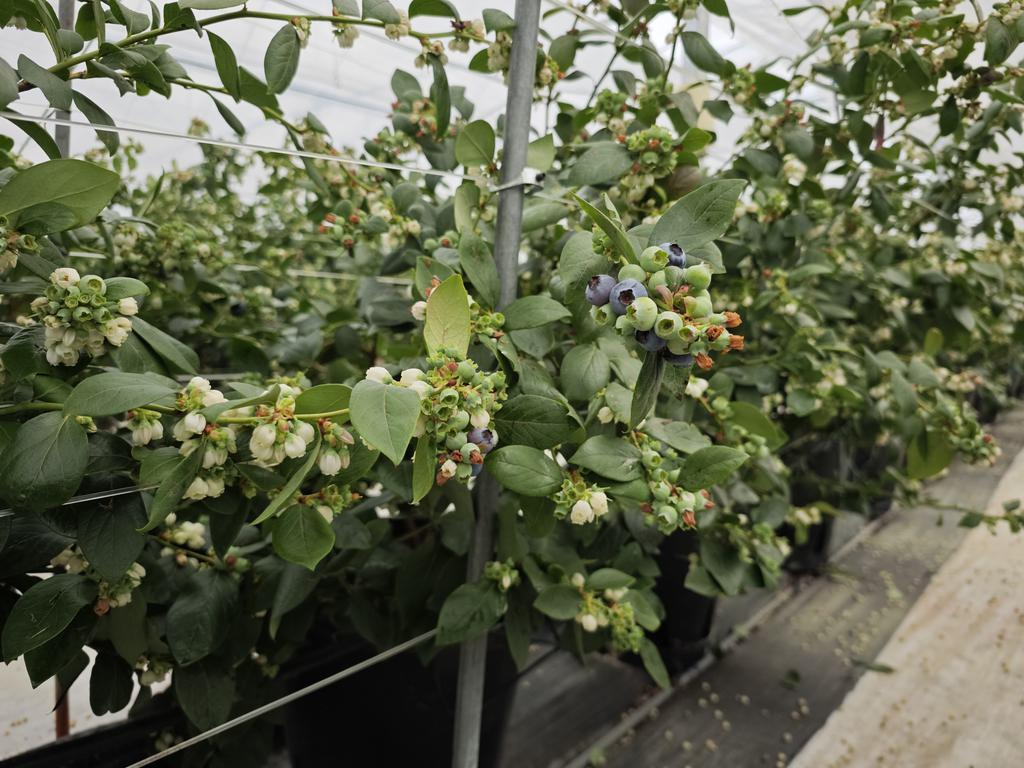RipeBlueBerry: (609, 278, 649, 314), (584, 274, 614, 307)
UnripeBlueBerry: (626, 297, 659, 332)
